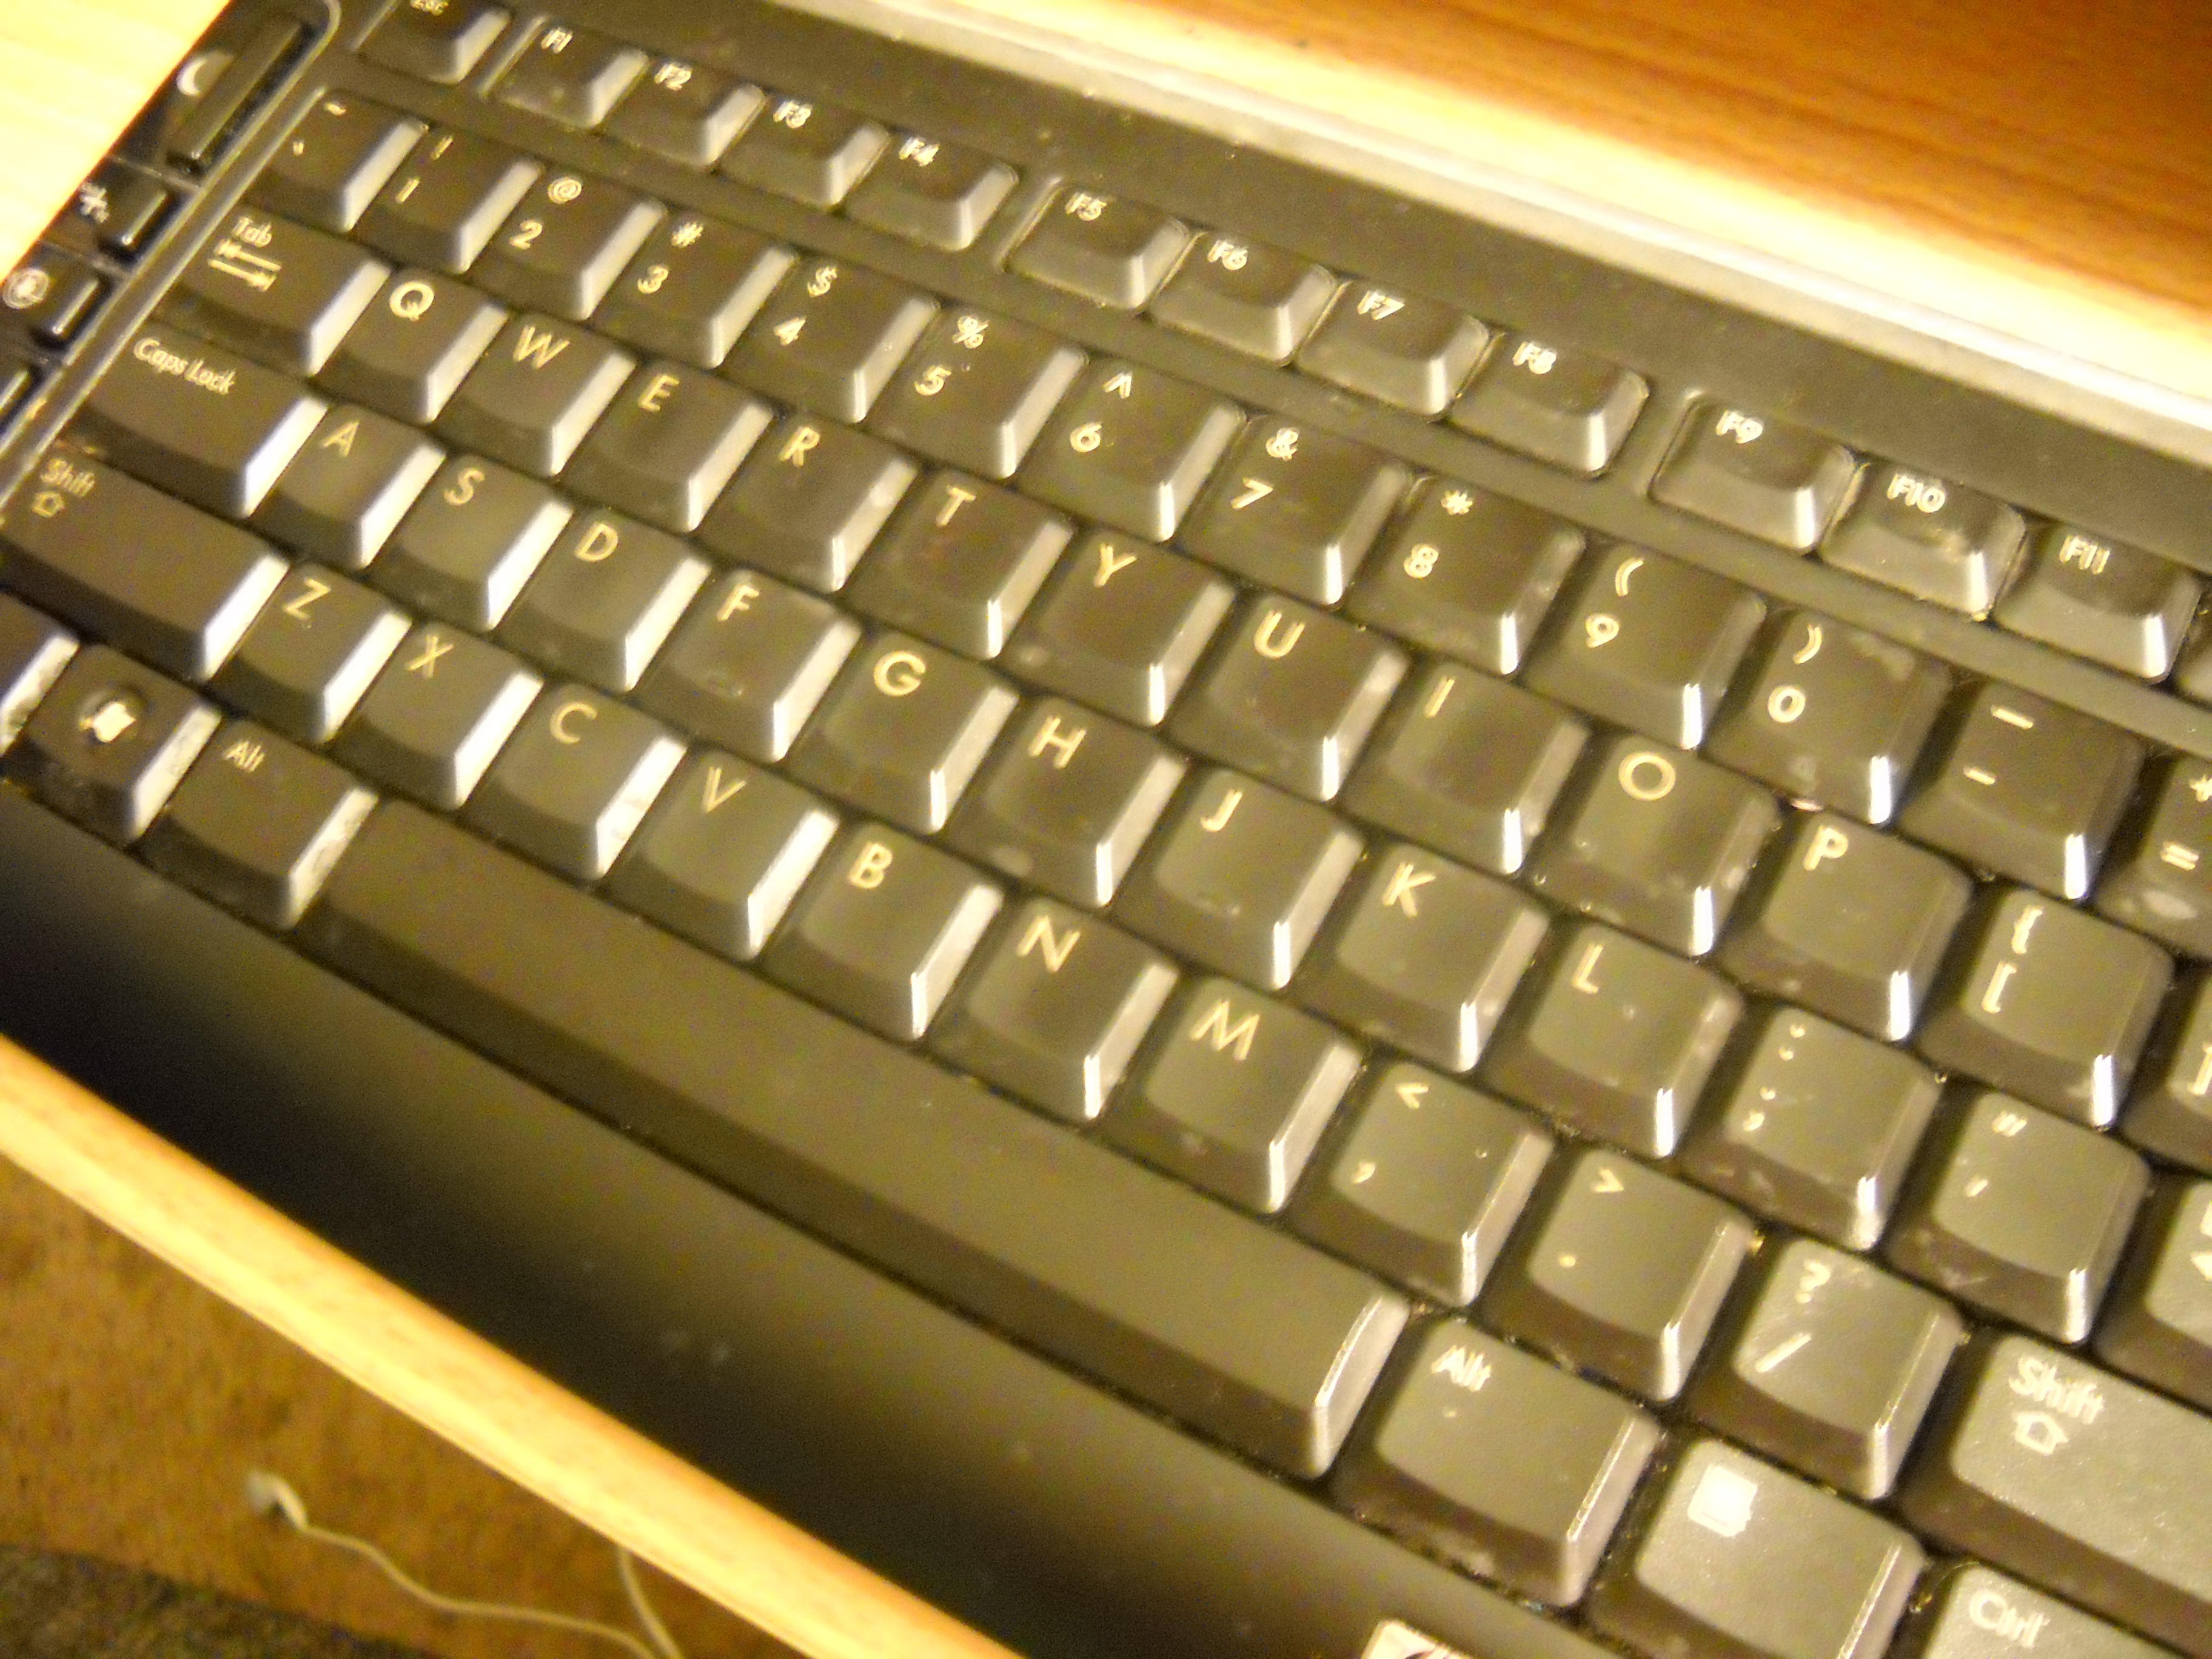keyboard: (21, 10, 2212, 1659)
